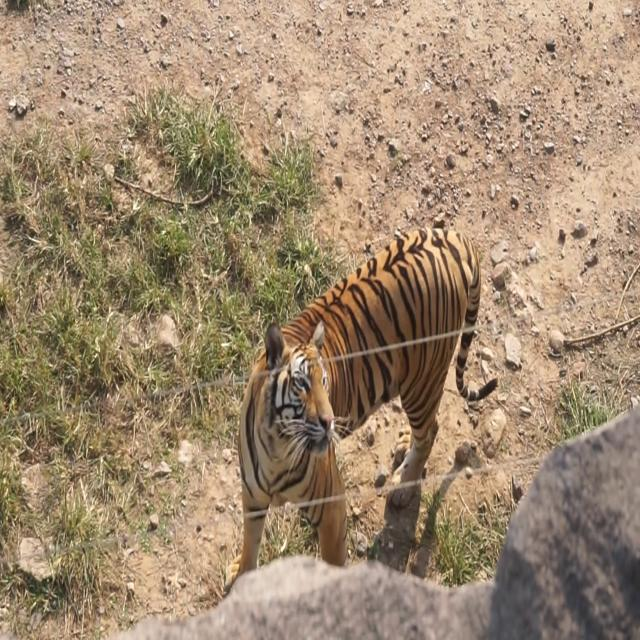Tiger: (211, 183, 506, 612)
